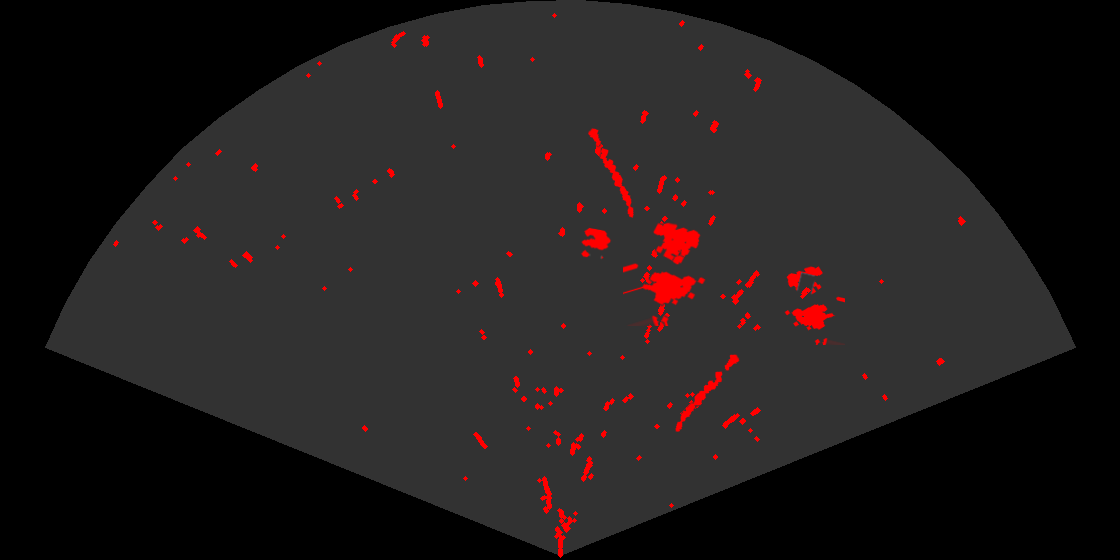ball: (579, 226, 613, 261)
cage: (623, 221, 707, 326), (783, 265, 845, 345)
chain: (674, 353, 741, 433), (587, 127, 635, 219)
